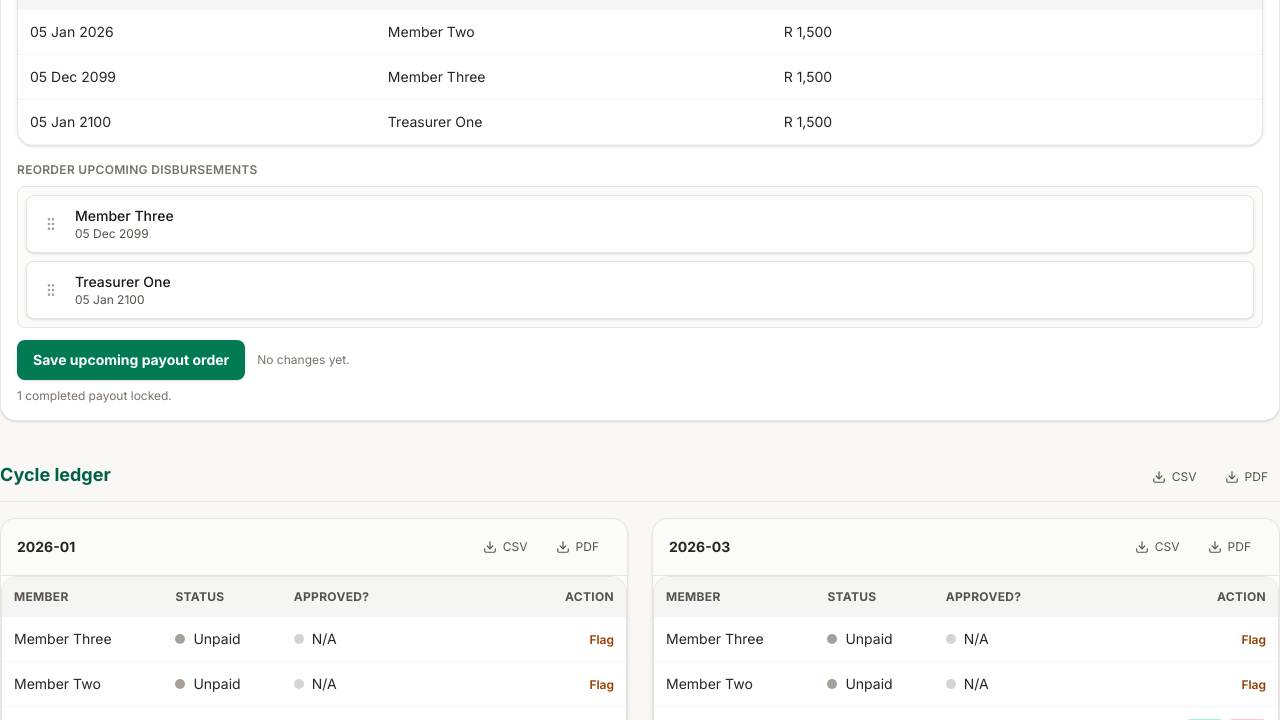
Scenario: Payments › allows treasurer to save reorder for upcoming payouts only
(page scrolled)
Expected: the text "1 completed payout locked." is shown, x1=17 y1=388 x2=172 y2=403
Step 1. Click the button "Save upcoming payout order" → (131, 360), box x1=17 y1=340 x2=245 y2=380
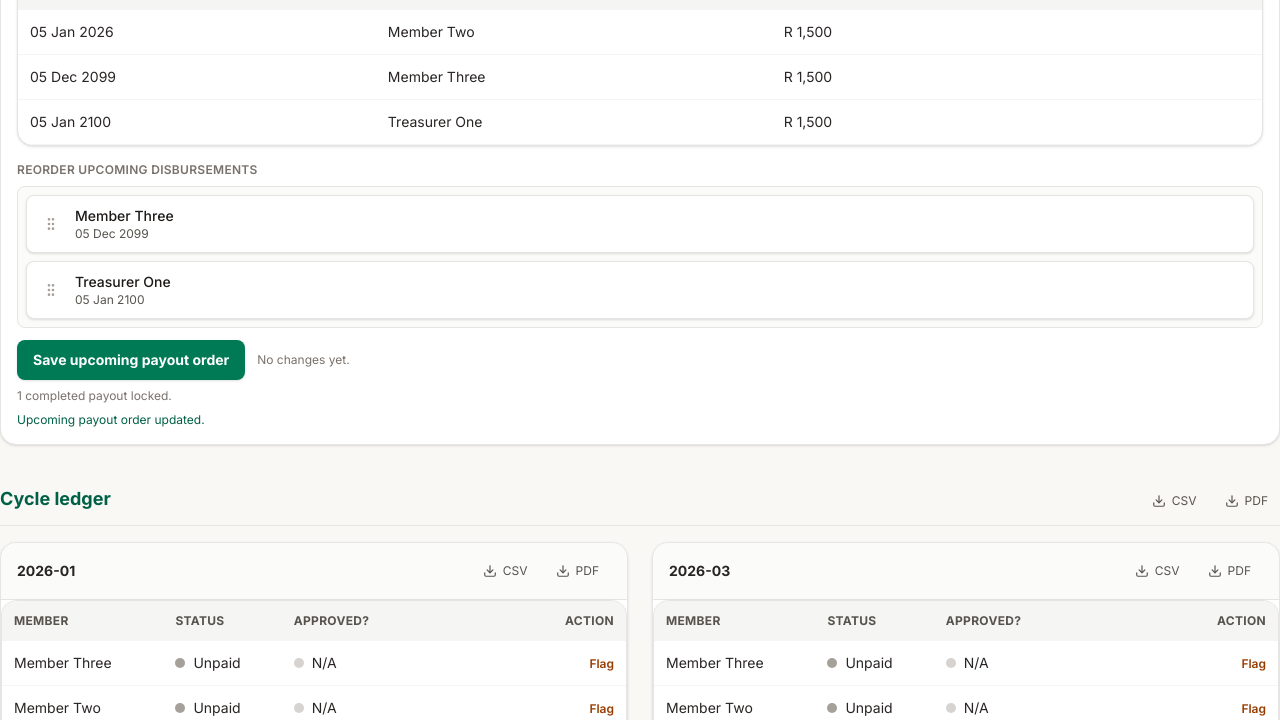
Now the text "Upcoming payout order updated." is shown, box x1=17 y1=412 x2=205 y2=427
